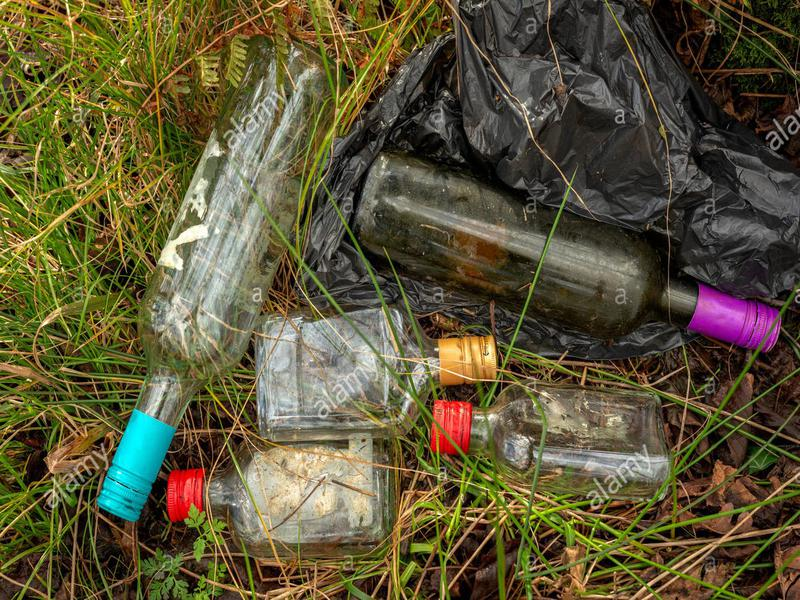bottle: (93, 32, 340, 534), (347, 141, 786, 360), (249, 301, 505, 445), (160, 425, 402, 561), (423, 379, 681, 504)
plastic: (431, 1, 789, 208)
